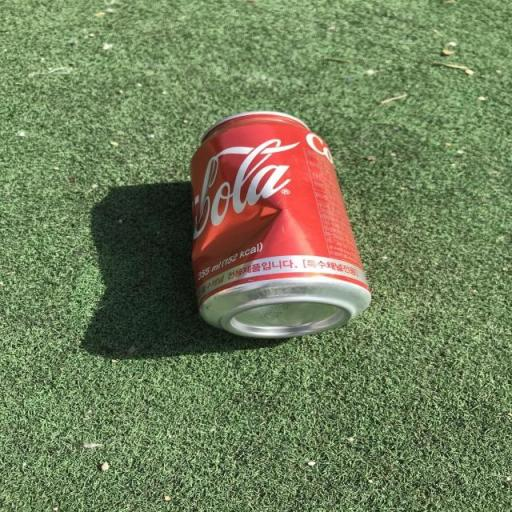metal: (160, 91, 388, 358)
